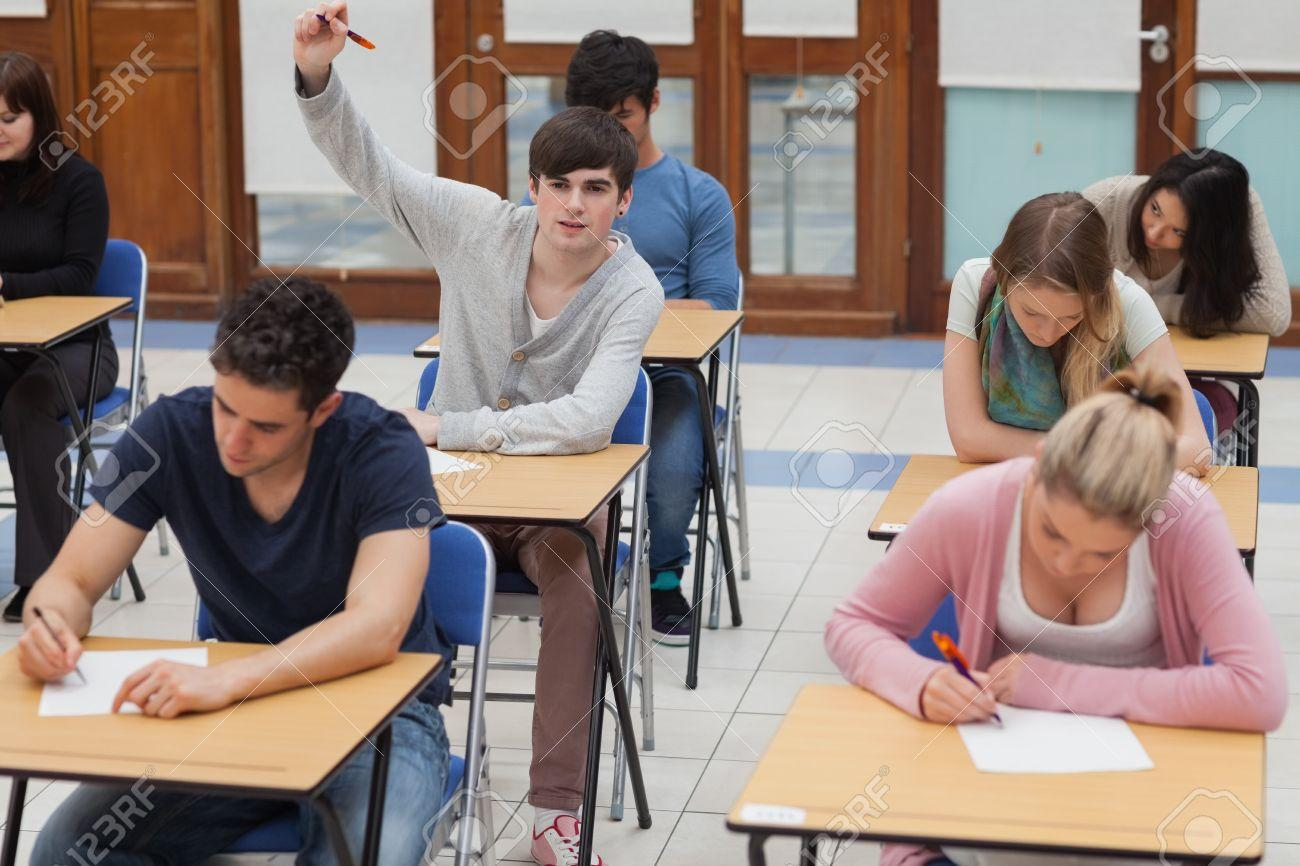student: (14, 280, 467, 730), (825, 361, 1295, 747), (924, 182, 1244, 486), (1106, 154, 1288, 346)
studentasking: (268, 9, 713, 448)
